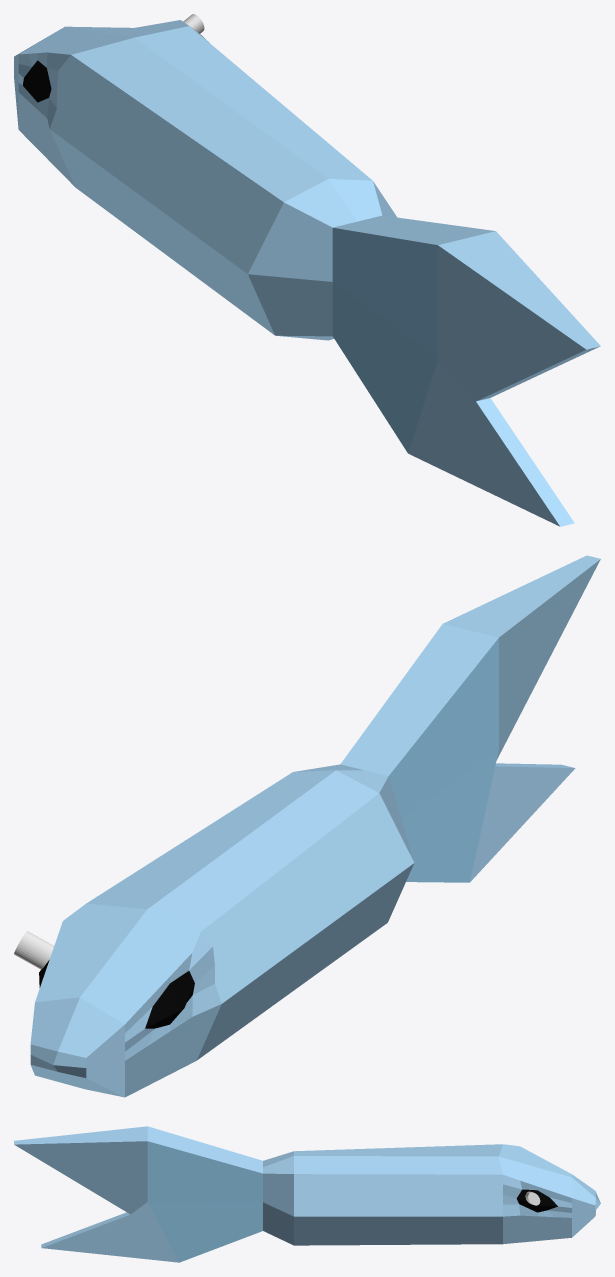
File: lobotomyFish.fbx
3 renders of one model, top to bottom at view 1: azimuth 30°, elevation 25°; view 2: azimuth 150°, elevation 25°; view 3: azimuth 270°, elevation 25°, orthographic. The views are drawn at different scales.
Parts seen in each view (by area): view 1: lobotomy fish; view 2: lobotomy fish; view 3: lobotomy fish.
Boxes of the visible parts, <box> form: lobotomy fish: <box>14,14,600,526</box>; lobotomy fish: <box>14,555,600,1097</box>; lobotomy fish: <box>14,1126,600,1262</box>.
Bounding box in the file's own units: 317 × 385 × 1688.
